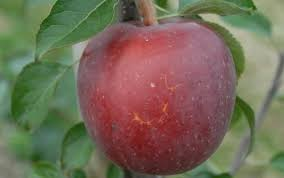apple: (74, 19, 239, 177)
